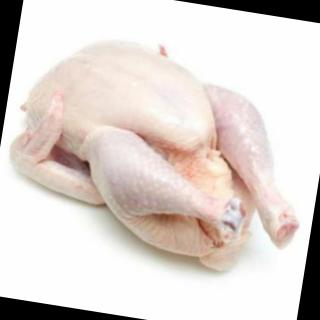Ayam: (1, 29, 320, 284)
